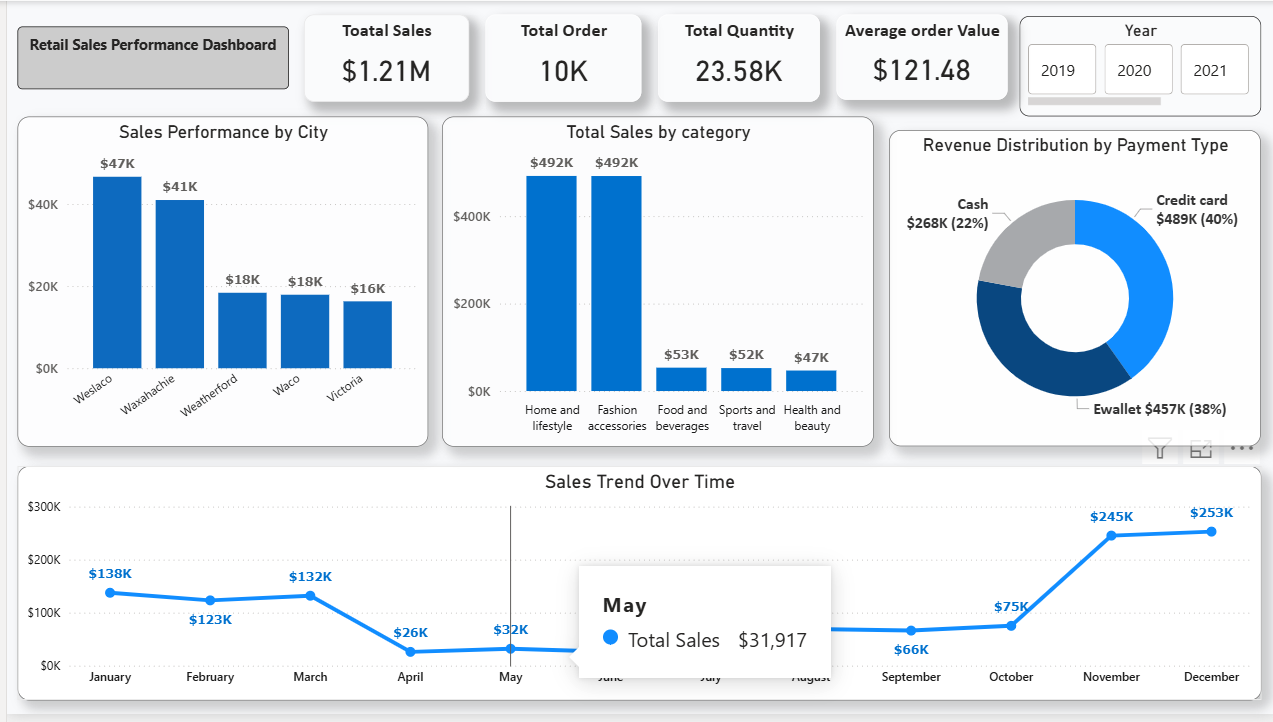

What the dashboard file says about the page in this screenshot:
{"tool":"powerbi","page":{"name":"Sales Performance Overview","canvas":[1280,720],"ordinal":0},"visuals":[{"type":"card","title":"Toatal Sales","fields":{"Values":["Walmart.Total Sales"]},"box":[299.8,13.6,166.6,87.8],"z":0},{"type":"card","title":"Total Quantity","fields":{"Values":["Walmart.Total Quantity"]},"box":[657.2,13.6,163.5,87.8],"z":1000},{"type":"card","title":"Total Order","fields":{"Values":["Walmart.Total Orders"]},"box":[483,13.6,157.5,87.8],"z":2000},{"type":"lineChart","title":"Sales Trend Over Time","fields":{"Category":["Walmart.date.Variation.Date Hierarchy.Month"],"Y":["Walmart.Total Sales"]},"box":[10.8,469,1255.7,236.6],"z":3000},{"type":"columnChart","title":"Sales Performance by City","fields":{"Category":["Walmart.City"],"Y":["Walmart.Total Sales"]},"box":[10.6,116.6,414.9,333.1],"z":4000},{"type":"donutChart","title":"Revenue Distribution by Payment Type","fields":{"Category":["Walmart.payment_method"],"Y":["Walmart.Total Sales"]},"box":[890.4,130.2,375.5,319.5],"z":5000},{"type":"advancedSlicerVisual","fields":{"Values":["Walmart.date.Variation.Date Hierarchy.Year"]},"box":[1022.1,15.1,243.8,101.5],"z":6000},{"type":"card","title":"Average order Value","fields":{"Values":["Walmart.Average Order Value"]},"box":[837.4,13.6,172.6,86.3],"z":7000},{"type":"columnChart","fields":{"Y":["Walmart.Total Sales"],"Category":["Walmart.category"]},"box":[439.1,116.6,436.1,333.1],"z":8000},{"type":"textbox","box":[10.6,25.7,274.1,63.6],"z":9000}]}

Visuals, with their boxes in screenshot pixels (x1, y1, x2, y2), scaled from the page's 1280x720 canvas onto the 1273x722 screenshot:
"Toatal Sales" card: [298,14,464,102]
"Total Quantity" card: [654,14,816,102]
"Total Order" card: [480,14,637,102]
"Sales Trend Over Time" lineChart: [11,470,1260,708]
"Sales Performance by City" columnChart: [11,117,423,451]
"Revenue Distribution by Payment Type" donutChart: [886,131,1259,451]
advancedSlicerVisual - Walmart.date.Variation.Date Hierarchy.Year: [1017,15,1259,117]
"Average order Value" card: [833,14,1004,100]
columnChart - Walmart.Total Sales x Walmart.category: [437,117,870,451]
textbox: [11,26,283,90]
